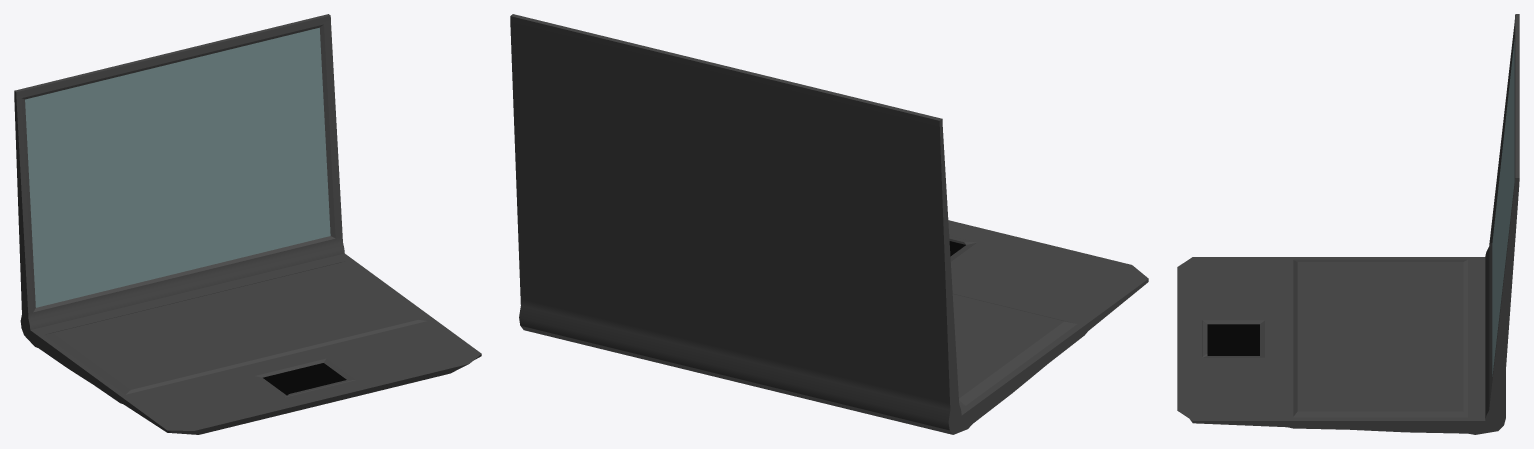
Rendered from Laptop.fbx.
3 views of the same model, side by side, from view 1: azimuth 30°, elevation 25°; view 2: azimuth 150°, elevation 25°; view 3: azimuth 270°, elevation 25° (orthographic). The views are drawn at different scales.
Parts seen in each view (by area): view 1: pCube1; view 2: pCube1; view 3: pCube1.
Part boxes in pixels (x1,y1,x2,y2): pCube1: (14,14,481,434); pCube1: (510,14,1148,434); pCube1: (1177,14,1519,434).
Size of the model in its own units: 13.45 by 9.85 by 11.88.
